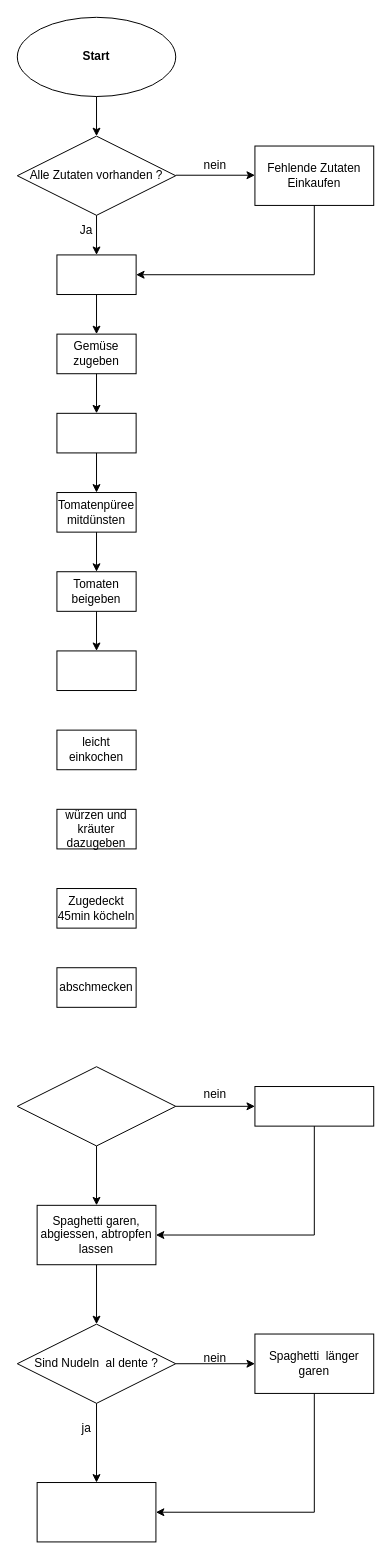
Image size: 391x1559. Some labels were removed from this diagram. The shapes that lost their labels are listed below. From the top down, each one's box as (x1, y1, x2, y2) in pixels, then its label:
(56, 254, 136, 295): Fleisch anbraten
(56, 412, 136, 453): mitdämpfen
(56, 650, 136, 691): ablöschen
(16, 1066, 176, 1146): bereits fertig ?
(254, 1086, 374, 1126): länger köcheln
(36, 1482, 156, 1542): Butter unter die Spaghetti mischen
